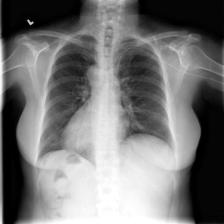normal: (34, 28, 180, 174)
